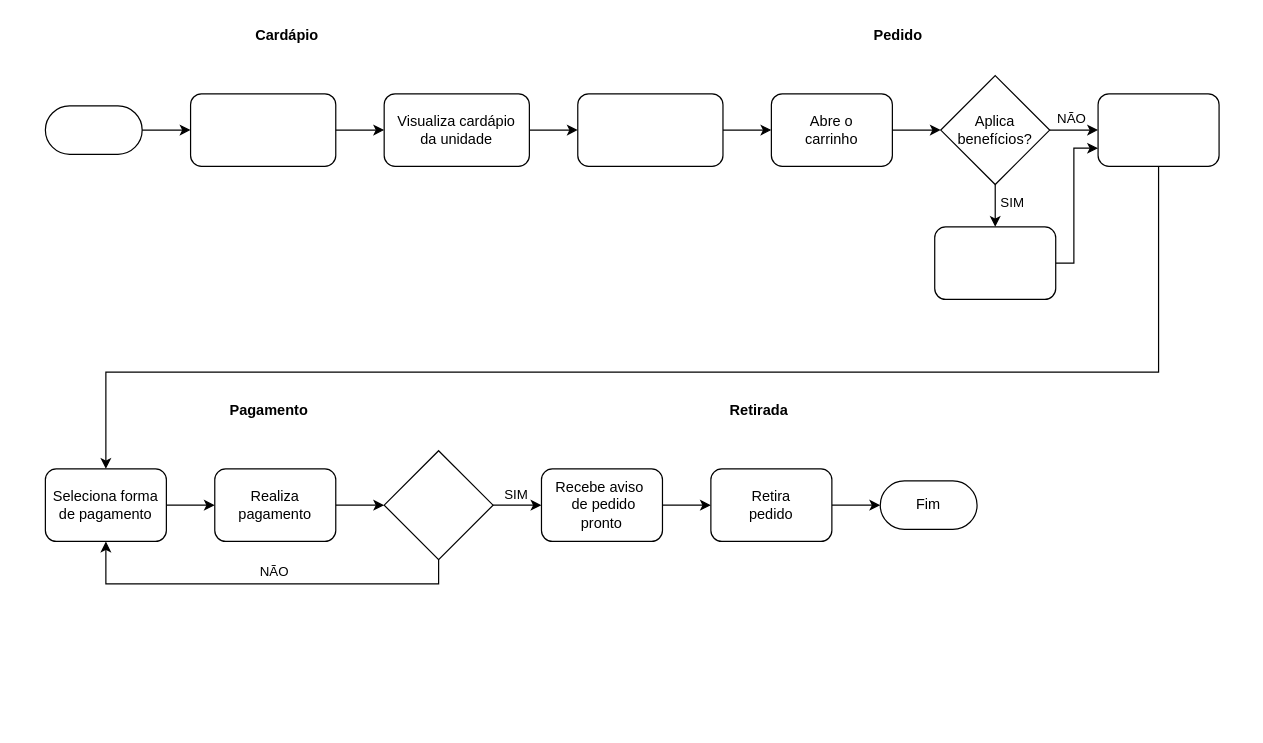
This 1263x743 diagram has some shape labels left out. The shapes that lost their labels are listed below. From the top down, each one's centre as x and y in pixels, then its label:
At (93,129): "Início".
At (262,129): "Acessa sistema (App/Web/Totem)".
At (650,129): "Adiciona produtos ao carrinho".
At (1158,129): "Confirma pedido".
At (995,262): "Valor do pedido atualizado".
At (438,505): "Pagamento confirmado?".
